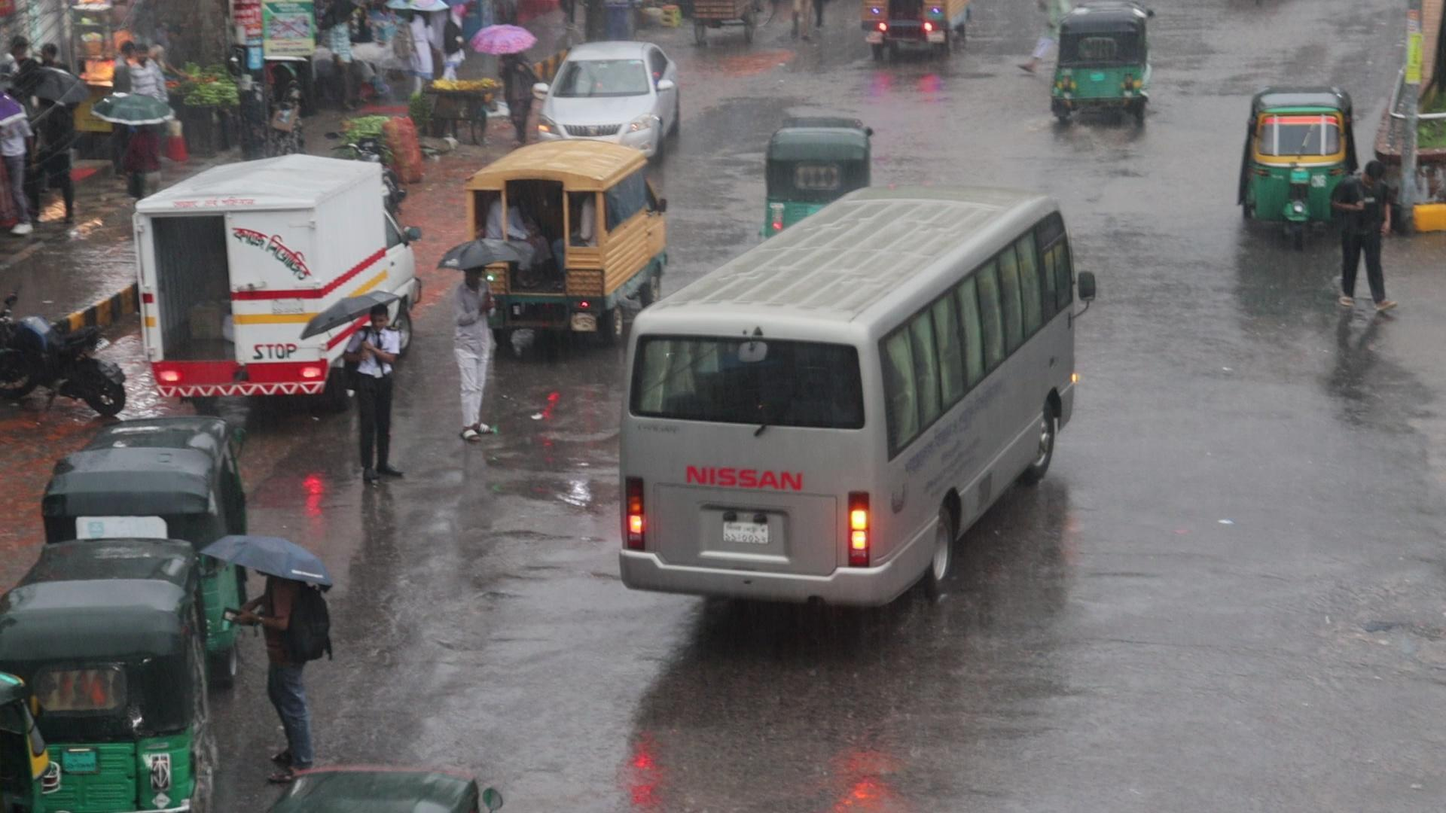Bus: (624, 184, 1082, 636)
Car: (533, 37, 679, 164)
Truck: (469, 139, 680, 358)
